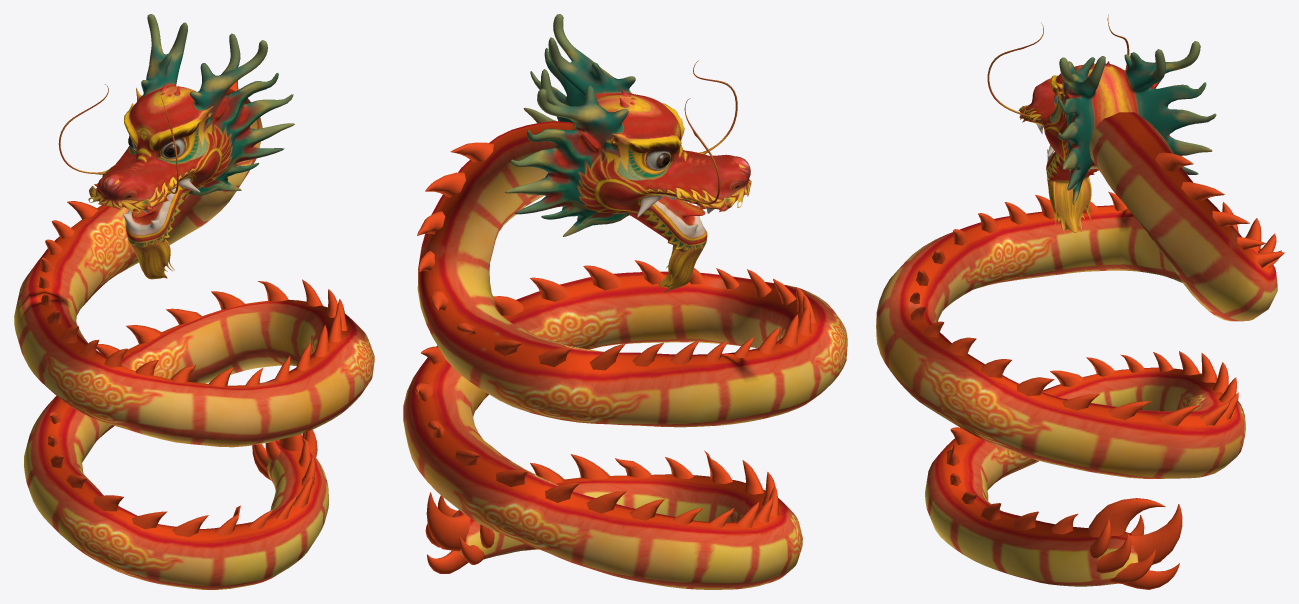
Rendered from MAP_OBJ_DRAGON001.fbx.
The picture shows the model from 3 angles, left to right: view 1: azimuth 30°, elevation 25°; view 2: azimuth 150°, elevation 25°; view 3: azimuth 270°, elevation 25°; orthographic projection. The views are drawn at different scales.
Parts seen in each view (by area): view 1: TRaditionalDragon_001; view 2: TRaditionalDragon_001; view 3: TRaditionalDragon_001.
Boxes of the visible parts, x1,y1,x2,y2 form: TRaditionalDragon_001: (14,14,374,589); TRaditionalDragon_001: (403,14,847,589); TRaditionalDragon_001: (876,14,1284,589).
Size of the model in its own units: 79.04 by 113 by 81.7.
1 material, 1 textured.
